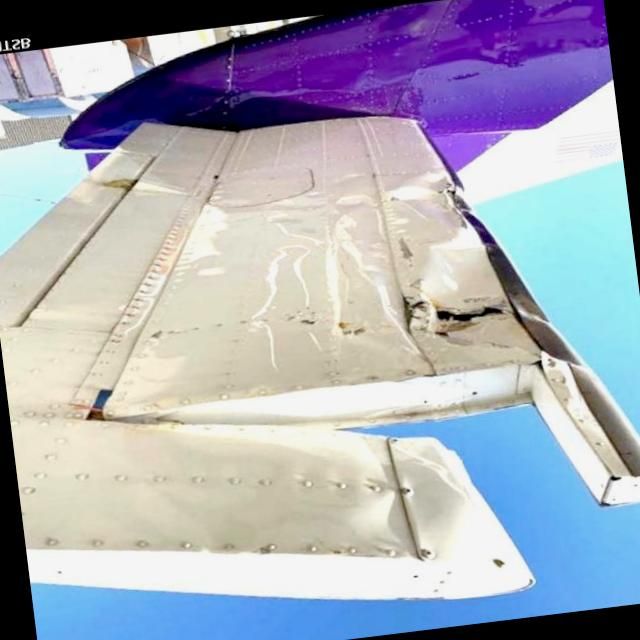dent: (378, 162, 462, 224)
